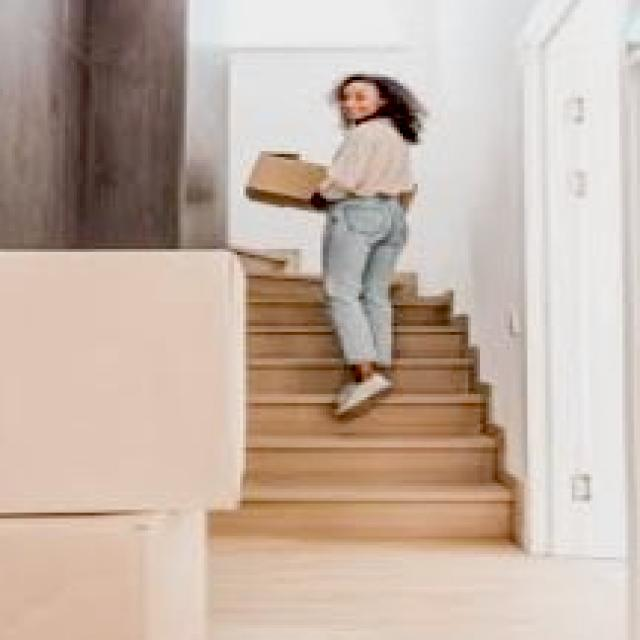upstair: (241, 300, 514, 549)
